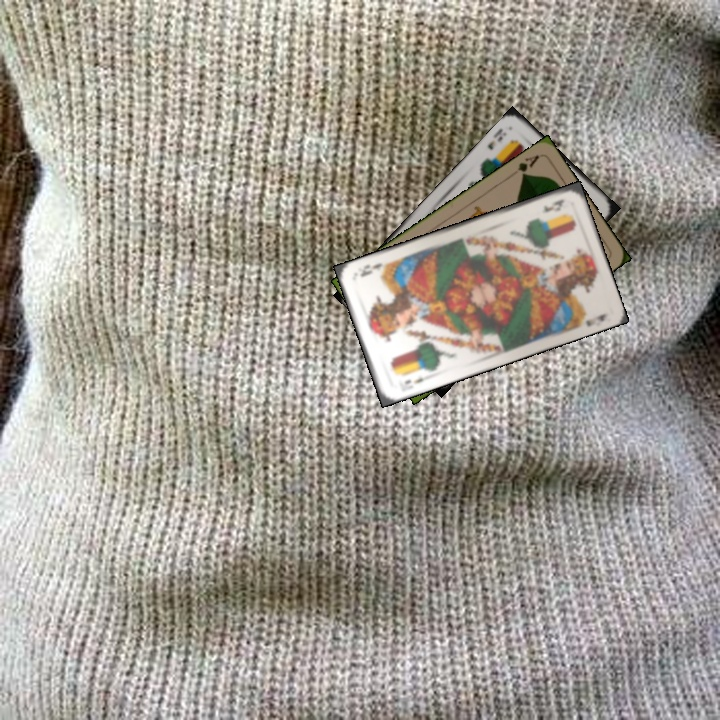EK: (483, 124, 509, 152), (538, 195, 567, 216), (400, 372, 431, 387)
GA: (506, 151, 542, 180)
